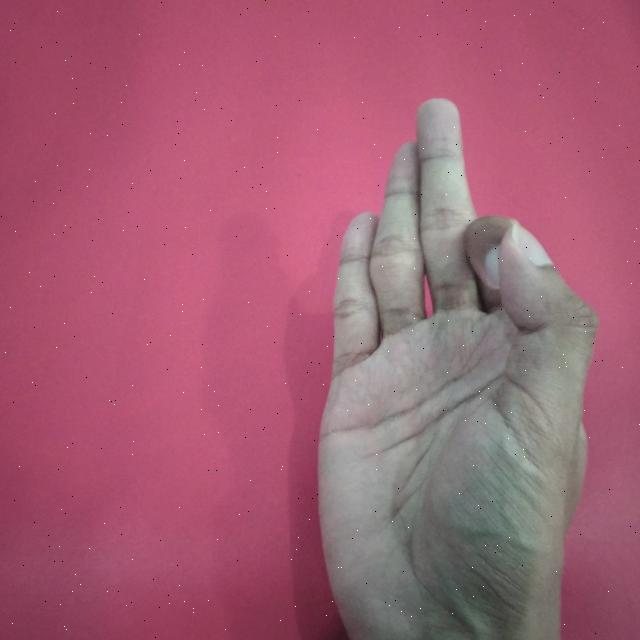F: (313, 95, 606, 640)
